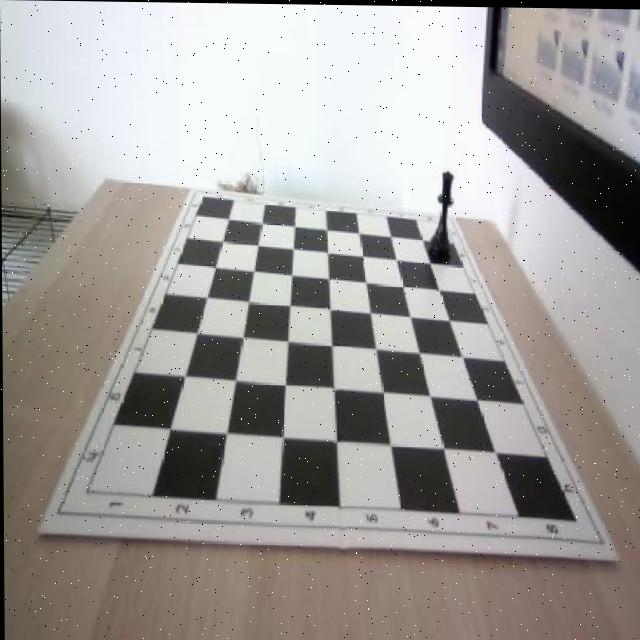black-pawn: (427, 168, 457, 261)
